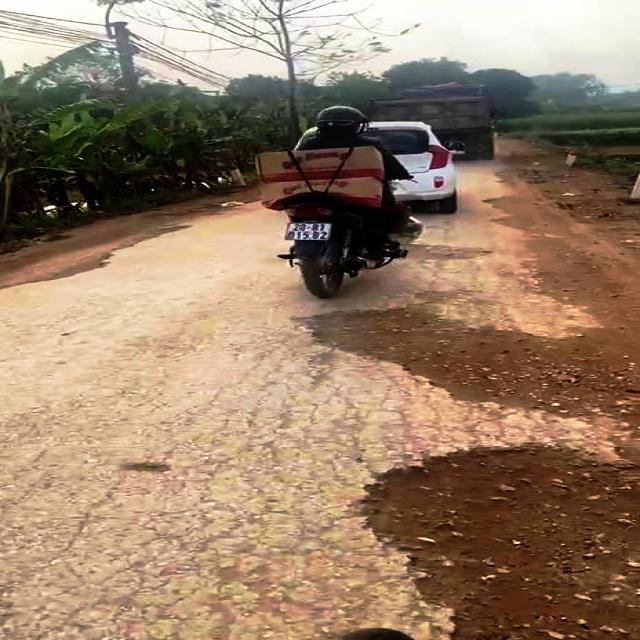pothole: (353, 441, 640, 640), (289, 302, 640, 434), (0, 250, 116, 288), (385, 240, 485, 263)
